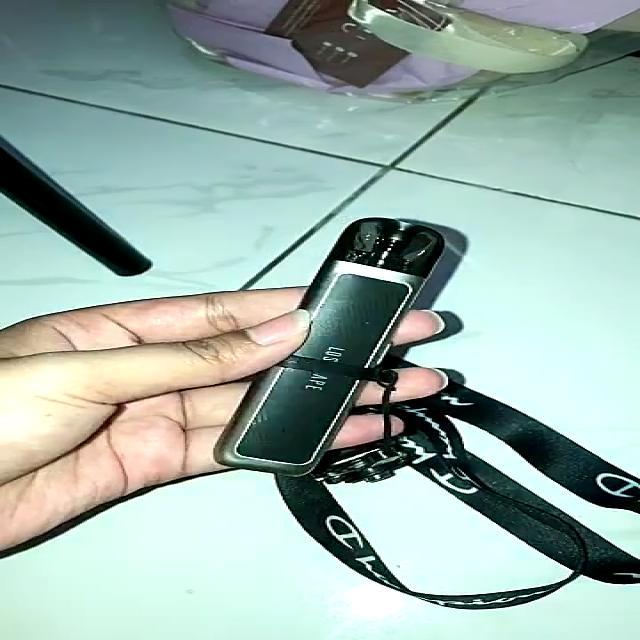Hazard: (208, 218, 460, 467)
